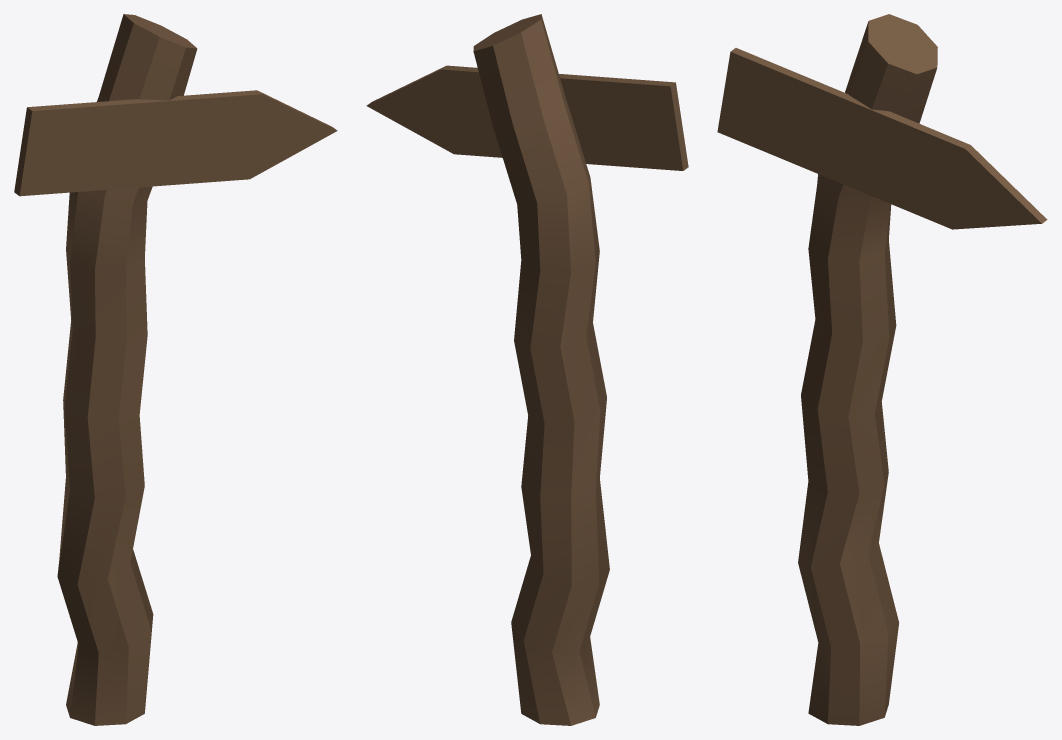
File: Forest_sign.fbx
3 renders of one model, left to right at view 1: azimuth 30°, elevation 25°; view 2: azimuth 150°, elevation 25°; view 3: azimuth 330°, elevation 25°, orthographic. The views are drawn at different scales.
Parts seen in each view (by area): view 1: pCube2; view 2: pCube2; view 3: pCube2.
Boxes of the visible parts, x1,y1,x2,y2 form: pCube2: (14, 14, 337, 725); pCube2: (366, 14, 688, 725); pCube2: (717, 14, 1047, 725).
Bounding box in the file's own units: 80.22 × 165 × 19.05.
